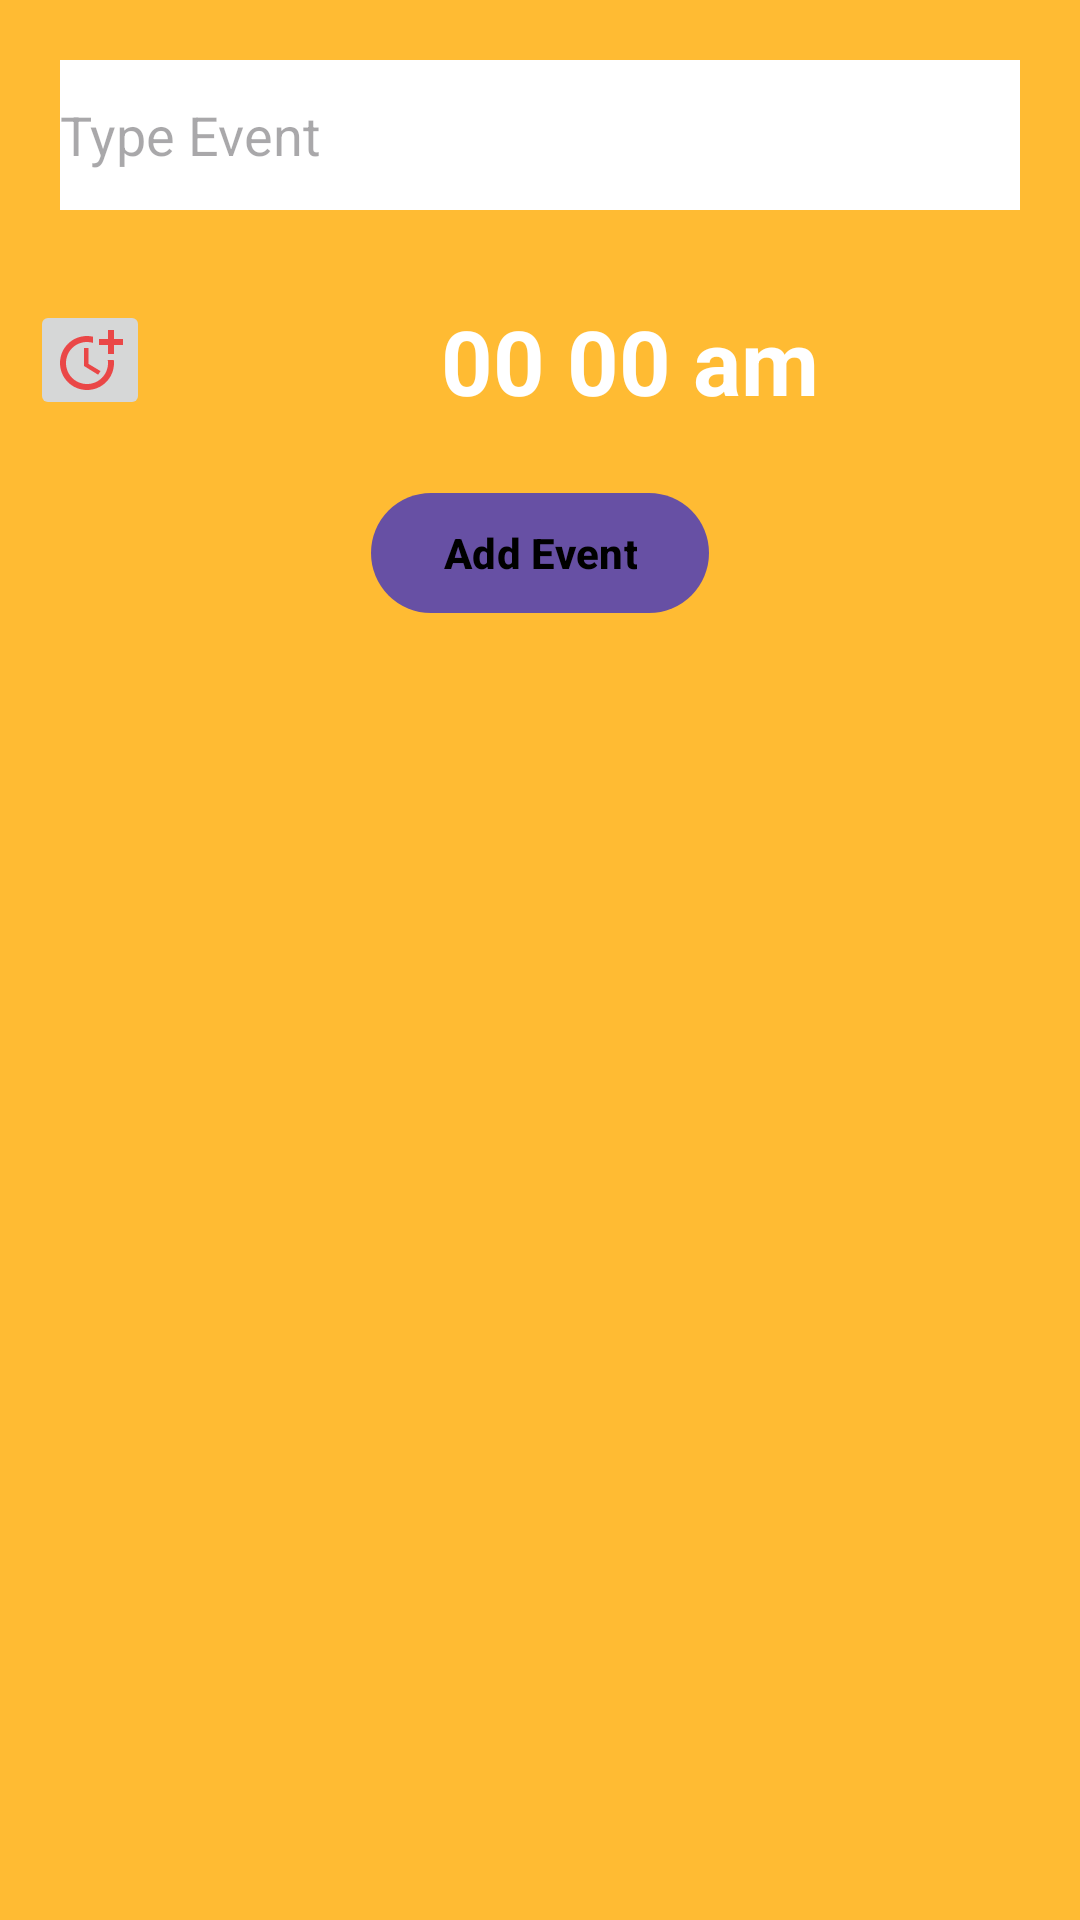

Screen size 1080px×1920px. Icon name, then its box in pixels as bbox=(x1, y1, x2, y2):
time: bbox=(42, 318, 138, 402)
